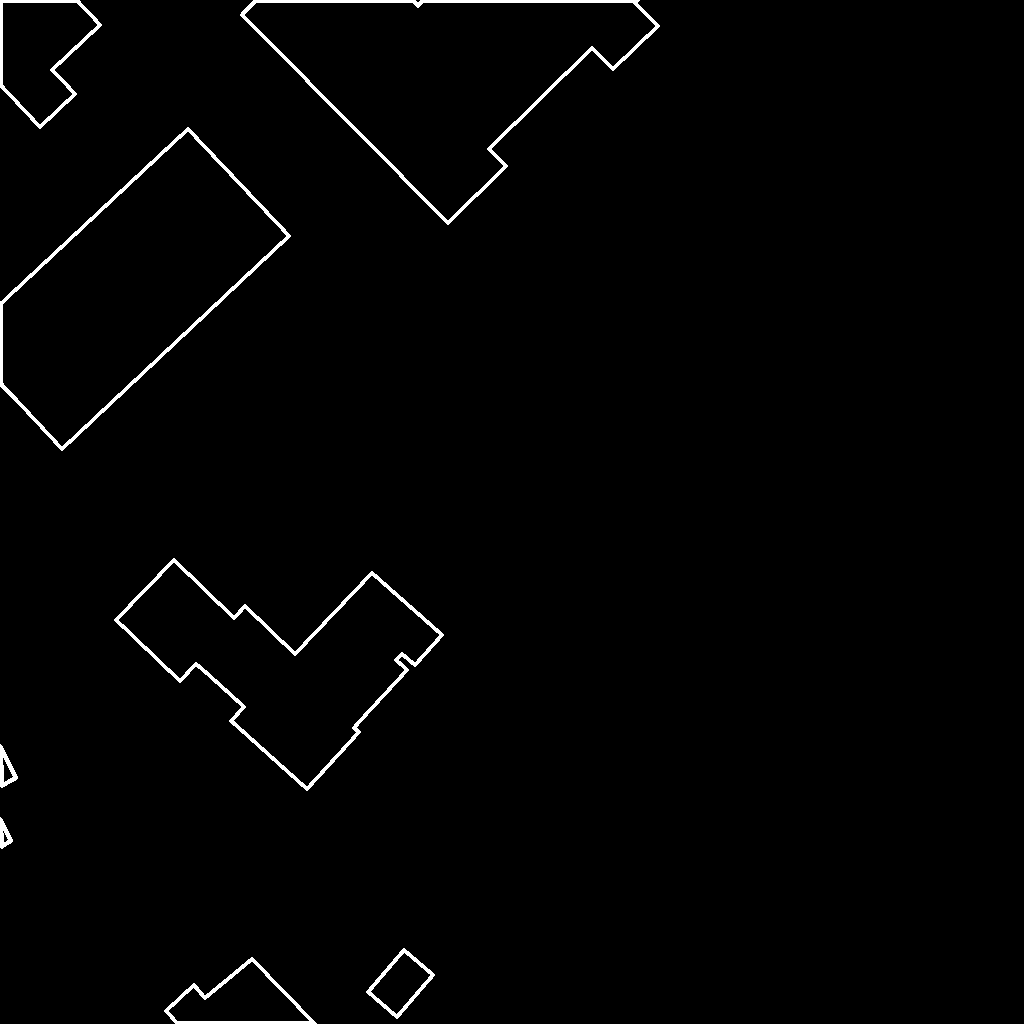building: (242, 0, 659, 224), (0, 129, 290, 450), (116, 560, 443, 790), (0, 0, 101, 128), (166, 959, 316, 1024), (368, 950, 434, 1018), (0, 745, 17, 848)
